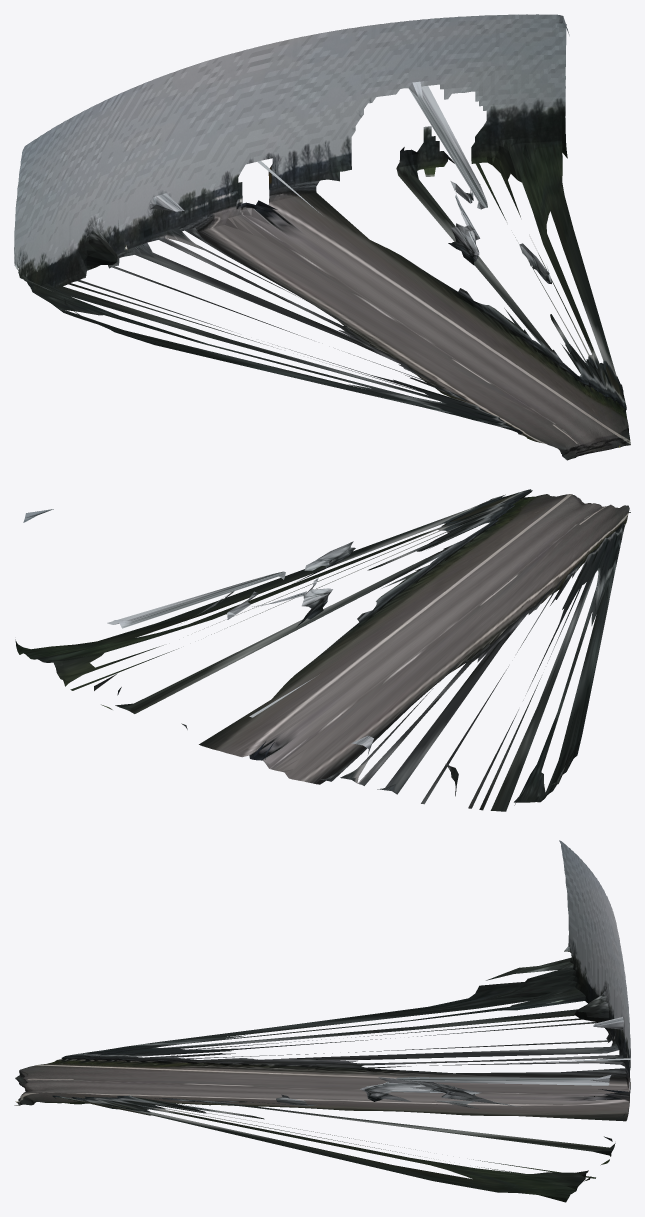
3 renders of one model, top to bottom at view 1: azimuth 30°, elevation 25°; view 2: azimuth 150°, elevation 25°; view 3: azimuth 270°, elevation 25°, orthographic. The views are drawn at different scales.
Parts seen in each view (by area): view 1: defaultobject; view 2: defaultobject; view 3: defaultobject.
Boxes of the visible parts, box(x1,y1,x2,y2) form: defaultobject: box(14, 14, 630, 460); defaultobject: box(15, 489, 630, 811); defaultobject: box(14, 840, 630, 1202).
Size of the model in its own units: 41.12 by 12.75 by 44.52.
Materials: 1 (1 with a texture image).
